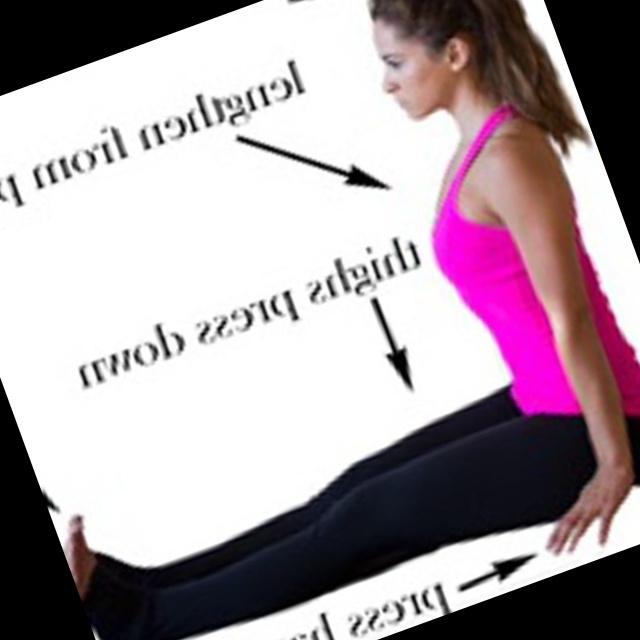Staff_Pose: (67, 4, 637, 632)
